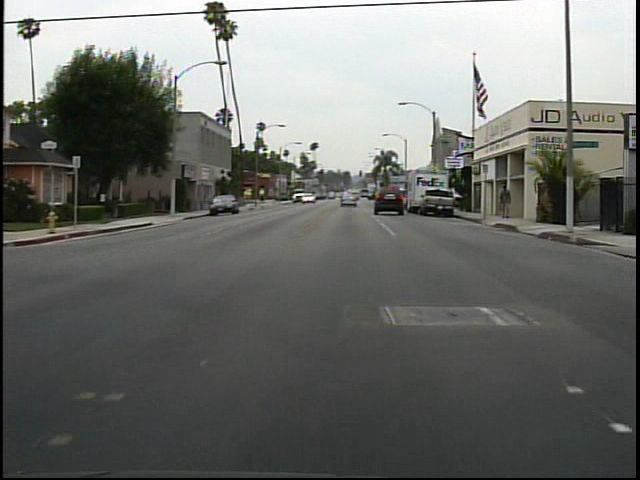person: (495, 183, 515, 222)
